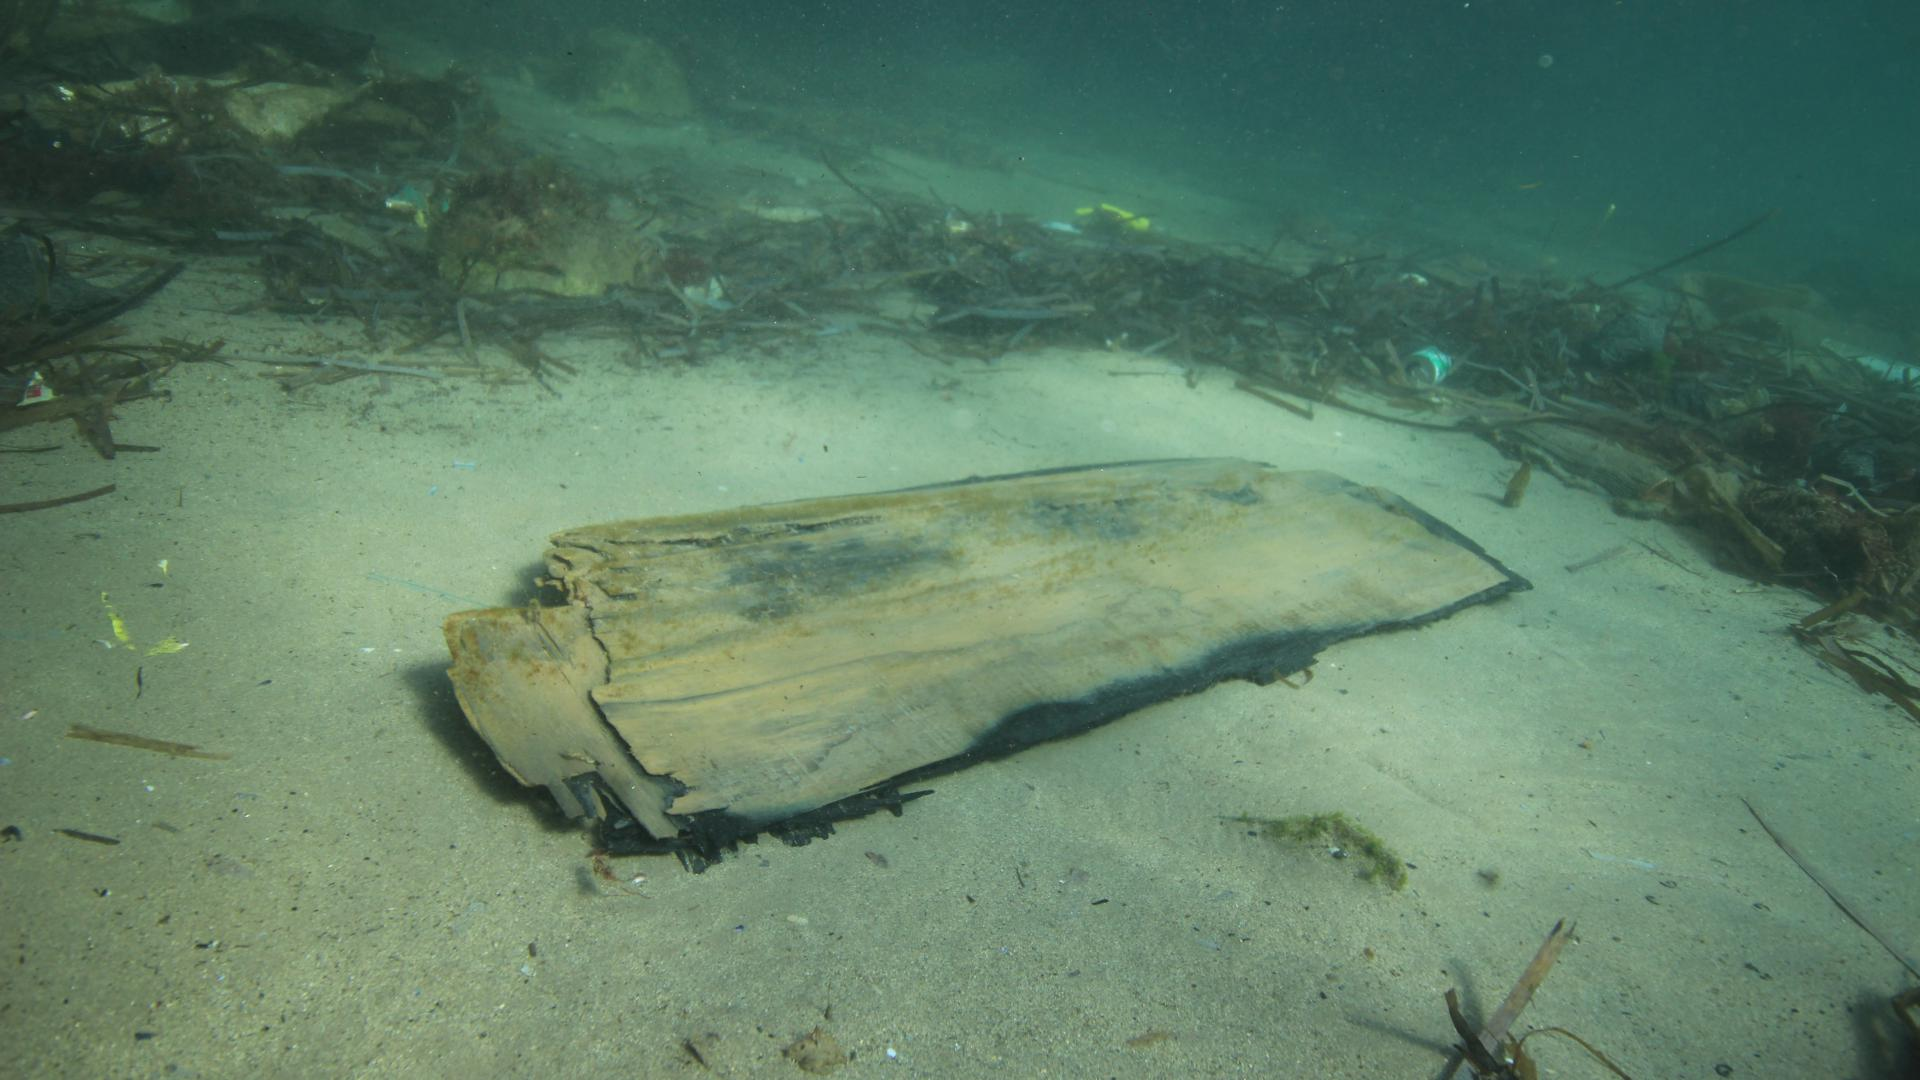wood: (444, 458, 1530, 857)
